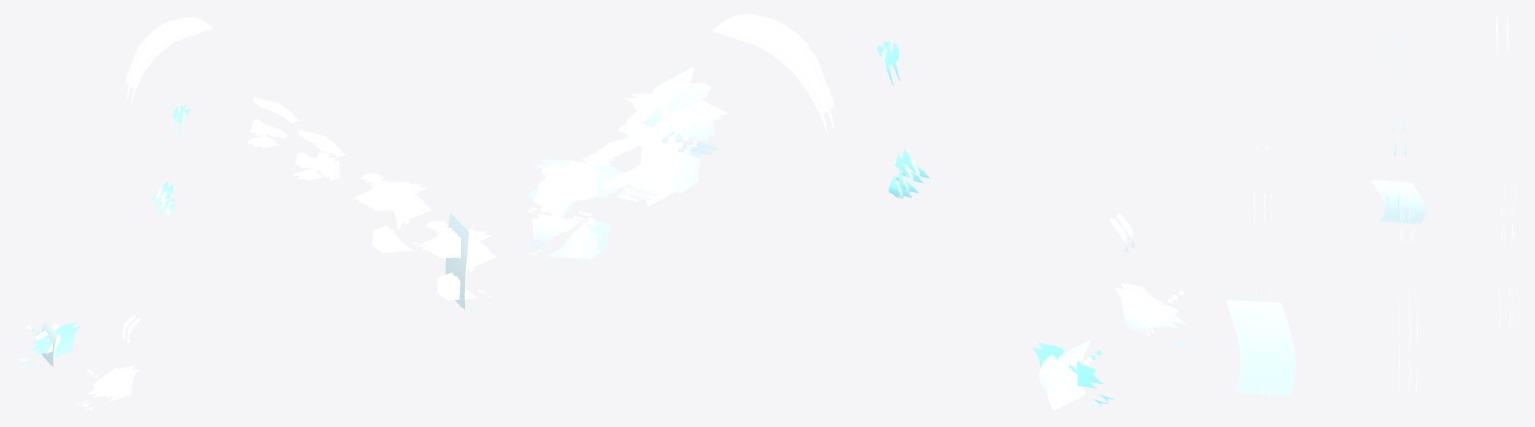
Rendered from yuna_semantic_layer_v9_hair_silhouette_mass_v1.glb.
3 renders of one model, left to right at view 1: azimuth 30°, elevation 25°; view 2: azimuth 150°, elevation 25°; view 3: azimuth 270°, elevation 25°, orthographic. The views are drawn at different scales.
Parts seen in each view (by area): view 1: side_hair_right_primary_sheet_01, back_hair_mass_sheet_01, bangs_primary_sheet_01, back_hair_mass_sheet_02, side_profile_volume_01, side_hair_left_primary_sheet_01, bangs_primary_sheet_03, side_hair_right_primary_sheet_02, bangs_primary_sheet_04, side_hair_right_primary_sheet_03, bangs_primary_sheet_02; view 2: bangs_primary_sheet_01, side_profile_volume_01, secondary_mass_strands_02, side_hair_right_primary_sheet_01, secondary_mass_strands_01, back_hair_mass_sheet_01, limited_flyaway_strands_02, side_profile_volume_02, bangs_primary_sheet_04, side_hair_right_primary_sheet_03, secondary_mass_strands_04, back_hair_mass_sheet_02 (+7 smaller); view 3: side_profile_volume_01, side_profile_volume_02.
Boxes of the visible parts, x1,y1,x2,y2 form: side_hair_right_primary_sheet_01: (353,177,431,253); back_hair_mass_sheet_01: (418,224,496,300); bangs_primary_sheet_01: (125,17,213,102); back_hair_mass_sheet_02: (80,365,139,411); side_profile_volume_01: (445,213,468,309); side_hair_left_primary_sheet_01: (22,322,80,368); bangs_primary_sheet_03: (248,112,288,148); side_hair_right_primary_sheet_02: (293,145,333,180); bangs_primary_sheet_04: (253,96,299,146); side_hair_right_primary_sheet_03: (297,128,344,179); bangs_primary_sheet_02: (309,146,339,180); bangs_primary_sheet_01: (711,14,834,133); side_profile_volume_01: (641,66,694,206); secondary_mass_strands_02: (530,154,599,259); side_hair_right_primary_sheet_01: (527,149,630,255); secondary_mass_strands_01: (622,88,698,192); back_hair_mass_sheet_01: (617,82,728,189); limited_flyaway_strands_02: (528,157,610,258); side_profile_volume_02: (1047,339,1091,410); bangs_primary_sheet_04: (581,131,648,201); side_hair_right_primary_sheet_03: (642,85,710,156); secondary_mass_strands_04: (1123,292,1192,349); back_hair_mass_sheet_02: (1114,282,1196,344); side_profile_volume_01: (1226,300,1295,395); side_profile_volume_02: (1371,180,1426,223).
Size of the model in its own units: 3.04 by 1.85 by 1.65.
8 materials, 7 textured.
